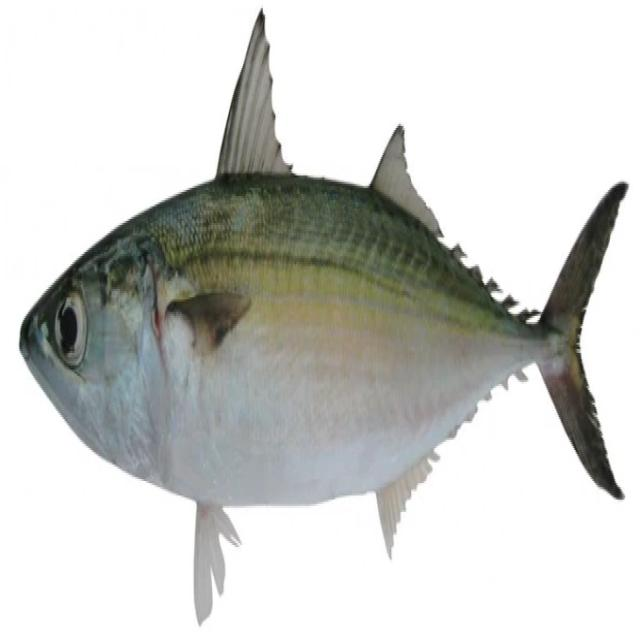Mackerel: (20, 8, 631, 629)
